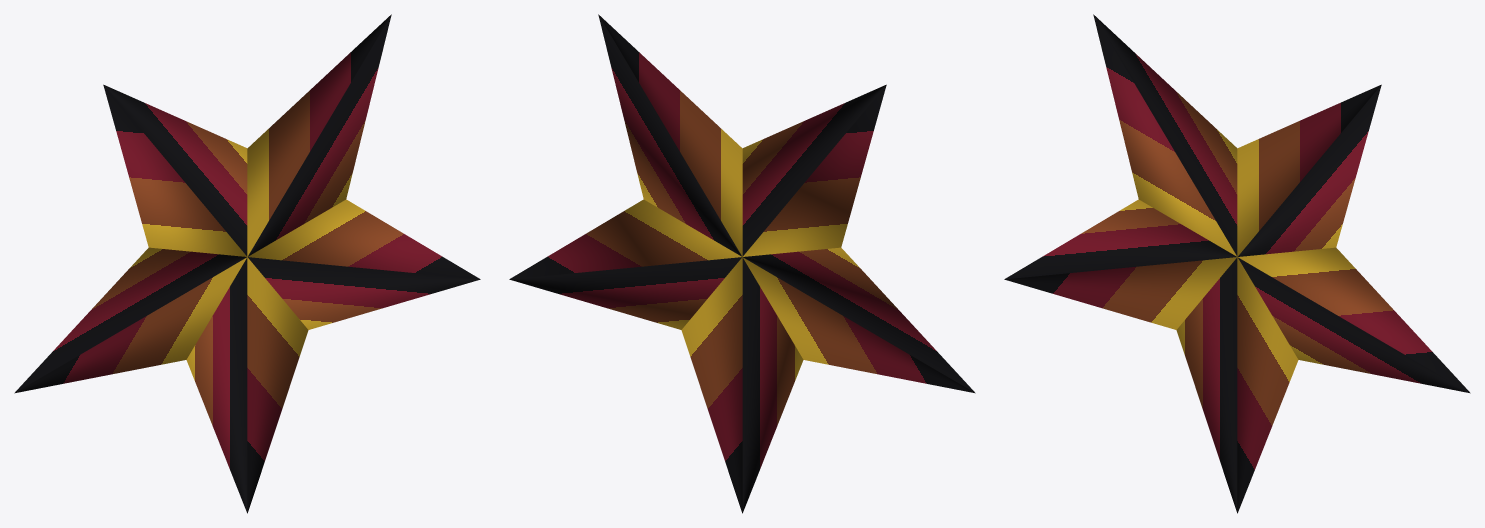
The model's file is star.glb.
The picture shows the model from 3 angles, left to right: view 1: azimuth 30°, elevation 25°; view 2: azimuth 150°, elevation 25°; view 3: azimuth 330°, elevation 25°; orthographic projection.
Visible parts, largest first — view 1: star; view 2: star; view 3: star.
Part boxes in pixels (x1,y1,x2,y2): star: (14, 14, 480, 513); star: (509, 14, 975, 513); star: (1004, 14, 1470, 513).
Size of the model in its own units: 0.9891 by 0.9407 by 0.
1 material, 1 textured.
